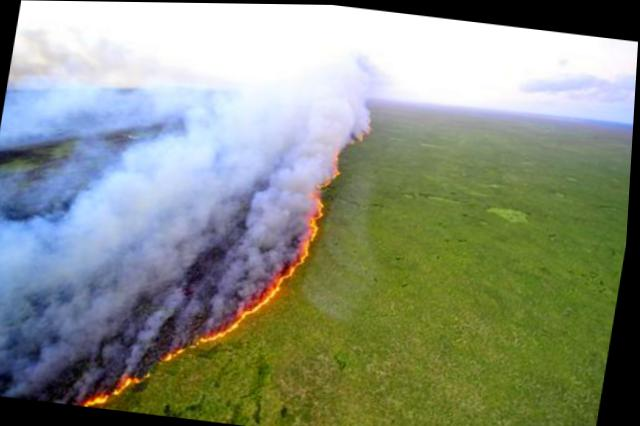fire: (75, 89, 379, 424)
